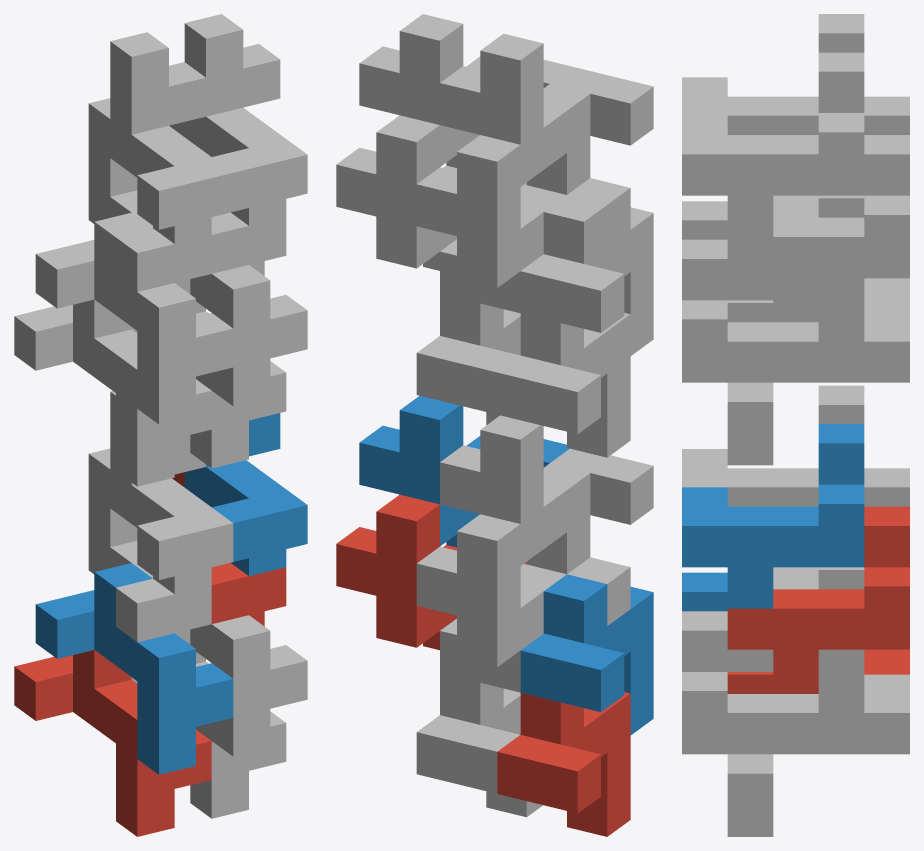
File: tiling.obj
3 renders of one model, left to right at view 1: azimuth 30°, elevation 25°; view 2: azimuth 150°, elevation 25°; view 3: azimuth 270°, elevation 25°, orthographic. The views are drawn at different scales.
Visible parts, largest first — view 1: copy_2_domain_4, copy_1_domain_2, copy_1_domain_4, copy_2_domain_8, copy_1_domain_1, copy_1_domain_3, copy_2_domain_2, copy_2_domain_6, copy_1_domain_6, copy_1_domain_8, copy_2_domain_1, copy_2_domain_3 (+4 smaller); view 2: copy_2_domain_4, copy_2_domain_2, copy_2_domain_3, copy_2_domain_1, copy_1_domain_2, copy_1_domain_4, copy_1_domain_1, copy_1_domain_3, copy_2_domain_5, copy_2_domain_7, copy_1_domain_5, copy_2_domain_8 (+4 smaller); view 3: copy_2_domain_6, copy_2_domain_8, copy_1_domain_5, copy_1_domain_7, copy_2_domain_7, copy_2_domain_5, copy_1_domain_6, copy_1_domain_8, copy_2_domain_4, copy_2_domain_2, copy_2_domain_3, copy_2_domain_1 (+4 smaller).
Boxes of the visible parts, left/top/right/bottom form: copy_2_domain_4: left=110, top=32, right=233, bottom=243; copy_1_domain_2: left=35, top=563, right=233, bottom=774; copy_1_domain_4: left=35, top=212, right=233, bottom=424; copy_2_domain_8: left=184, top=14, right=307, bottom=225; copy_1_domain_1: left=14, top=650, right=211, bottom=836; copy_1_domain_3: left=14, top=299, right=211, bottom=486; copy_2_domain_2: left=110, top=391, right=233, bottom=594; copy_2_domain_6: left=184, top=413, right=307, bottom=575; copy_1_domain_6: left=190, top=615, right=307, bottom=756; copy_1_domain_8: left=190, top=265, right=307, bottom=406; copy_2_domain_1: left=88, top=448, right=211, bottom=644; copy_2_domain_3: left=88, top=98, right=211, bottom=293; copy_2_domain_4: left=440, top=33, right=653, bottom=194; copy_2_domain_2: left=440, top=415, right=653, bottom=574; copy_2_domain_3: left=416, top=135, right=630, bottom=287; copy_2_domain_1: left=416, top=514, right=630, bottom=667; copy_1_domain_2: left=520, top=574, right=653, bottom=734; copy_1_domain_4: left=520, top=195, right=653, bottom=355; copy_1_domain_1: left=497, top=692, right=630, bottom=836; copy_1_domain_3: left=497, top=313, right=630, bottom=457; copy_2_domain_5: left=336, top=494, right=526, bottom=650; copy_2_domain_7: left=336, top=115, right=526, bottom=270; copy_1_domain_5: left=416, top=673, right=542, bottom=817; copy_2_domain_8: left=359, top=14, right=572, bottom=167; copy_2_domain_6: left=682, top=424, right=864, bottom=608; copy_2_domain_8: left=682, top=52, right=864, bottom=236; copy_1_domain_5: left=727, top=672, right=909, bottom=836; copy_1_domain_7: left=727, top=300, right=909, bottom=465; copy_2_domain_7: left=727, top=135, right=909, bottom=319; copy_2_domain_5: left=727, top=506, right=909, bottom=690; copy_1_domain_6: left=682, top=570, right=864, bottom=754; copy_1_domain_8: left=682, top=198, right=864, bottom=382; copy_2_domain_4: left=682, top=14, right=864, bottom=134; copy_2_domain_2: left=682, top=385, right=864, bottom=506; copy_2_domain_3: left=773, top=96, right=909, bottom=217; copy_2_domain_1: left=773, top=468, right=909, bottom=589.
Size of the model in its own units: 6 by 19 by 5.
